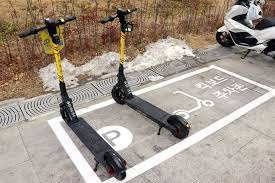kick_board: (101, 8, 191, 137)
kick_handler: (19, 14, 76, 39), (101, 9, 139, 22)
kick_neck: (51, 43, 68, 98), (118, 24, 133, 81)
kick_wheel: (103, 151, 125, 181), (167, 114, 189, 138), (111, 84, 129, 104)
